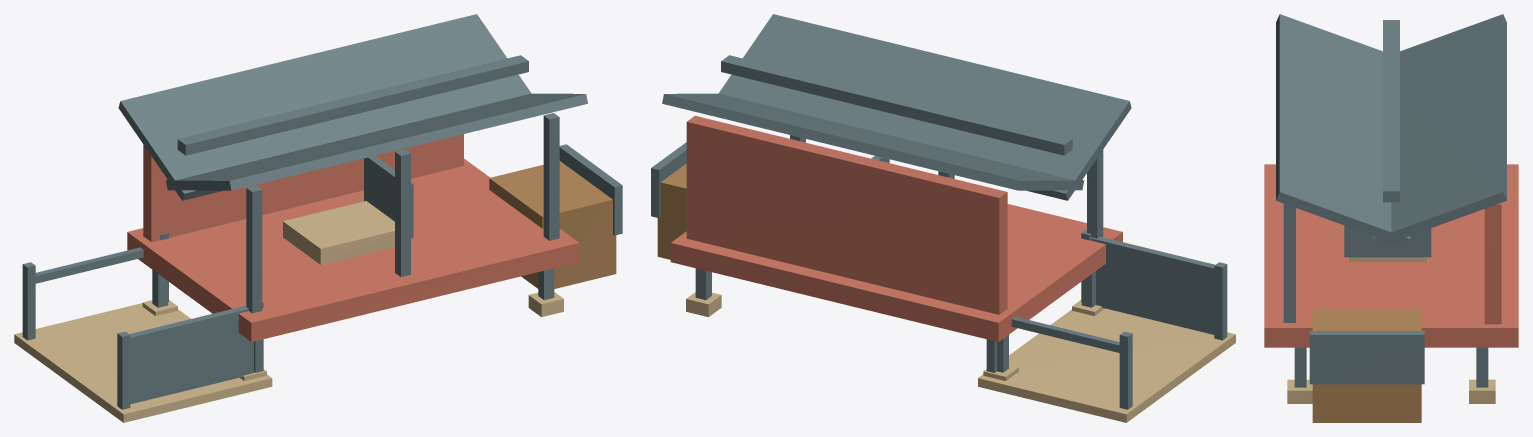
Rendered from Shearing-Shed.glb.
3 renders of one model, left to right at view 1: azimuth 30°, elevation 25°; view 2: azimuth 150°, elevation 25°; view 3: azimuth 270°, elevation 25°, orthographic. The views are drawn at different scales.
Visible parts, largest first — view 1: wind-pump-static-shearing-shed-weathered-timber, wind-pump-static-shearing-shed-galvanized-roof, wind-pump-static-shearing-shed-dark-iron, wind-pump-static-shearing-shed-stone-feet, wind-pump-static-shearing-shed-wool-sorting-bay; view 2: wind-pump-static-shearing-shed-weathered-timber, wind-pump-static-shearing-shed-galvanized-roof, wind-pump-static-shearing-shed-dark-iron, wind-pump-static-shearing-shed-stone-feet, wind-pump-static-shearing-shed-wool-sorting-bay; view 3: wind-pump-static-shearing-shed-galvanized-roof, wind-pump-static-shearing-shed-weathered-timber, wind-pump-static-shearing-shed-dark-iron, wind-pump-static-shearing-shed-wool-sorting-bay, wind-pump-static-shearing-shed-stone-feet.
Boxes of the visible parts, <box> form: wind-pump-static-shearing-shed-weathered-timber: <box>127,134,579,341</box>; wind-pump-static-shearing-shed-galvanized-roof: <box>118,14,587,200</box>; wind-pump-static-shearing-shed-dark-iron: <box>22,55,622,409</box>; wind-pump-static-shearing-shed-stone-feet: <box>14,201,563,422</box>; wind-pump-static-shearing-shed-wool-sorting-bay: <box>489,161,616,288</box>; wind-pump-static-shearing-shed-weathered-timber: <box>670,115,1122,341</box>; wind-pump-static-shearing-shed-galvanized-roof: <box>662,14,1131,200</box>; wind-pump-static-shearing-shed-dark-iron: <box>651,55,1227,409</box>; wind-pump-static-shearing-shed-stone-feet: <box>686,292,1235,422</box>; wind-pump-static-shearing-shed-wool-sorting-bay: <box>657,163,686,259</box>; wind-pump-static-shearing-shed-galvanized-roof: <box>1276,14,1506,247</box>; wind-pump-static-shearing-shed-weathered-timber: <box>1264,164,1518,347</box>; wind-pump-static-shearing-shed-dark-iron: <box>1283,20,1488,387</box>; wind-pump-static-shearing-shed-wool-sorting-bay: <box>1312,309,1421,422</box>; wind-pump-static-shearing-shed-stone-feet: <box>1287,257,1495,403</box>.
Bounding box in the file's own units: 5.02 × 2.01 × 2.1.
